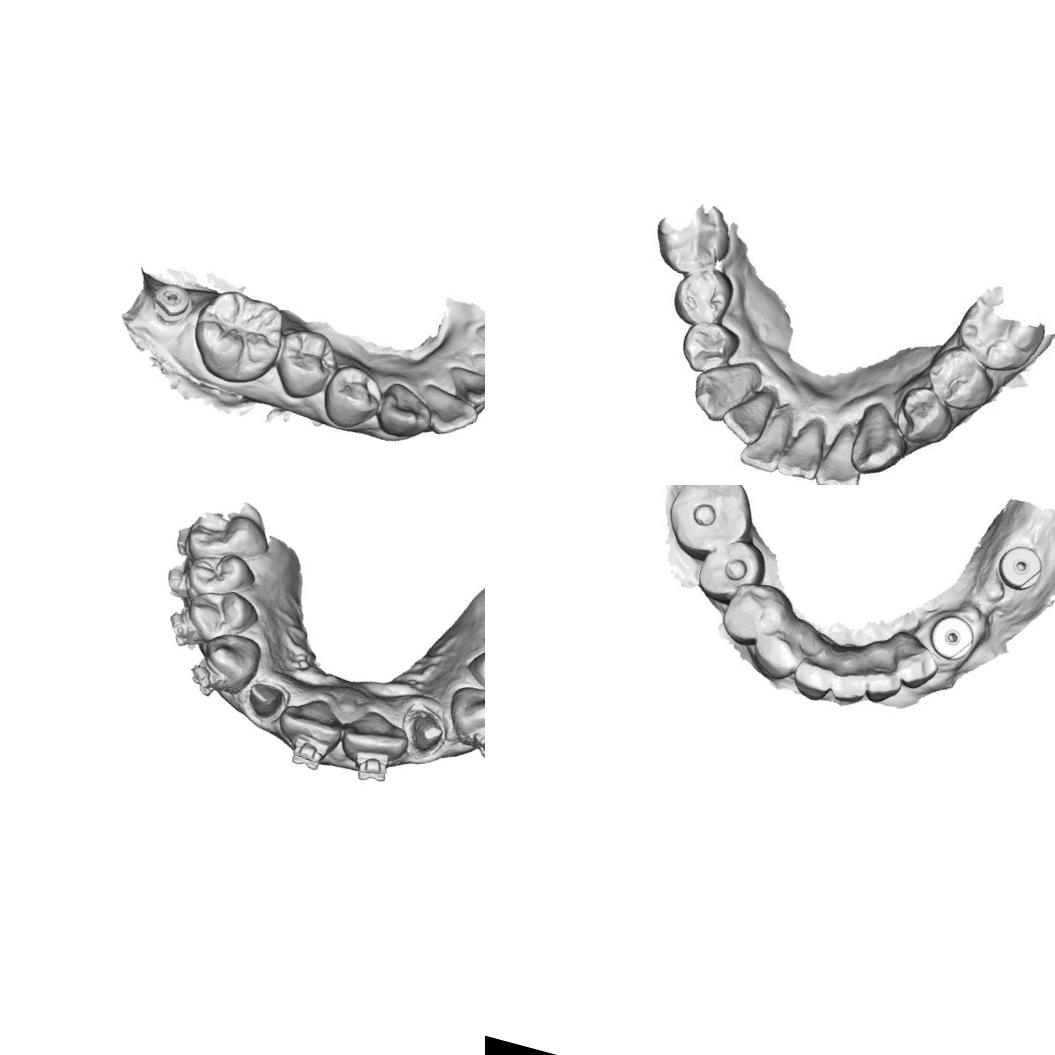canine: (843, 398, 914, 484), (690, 354, 760, 426), (370, 378, 439, 448), (194, 625, 262, 696), (747, 620, 805, 681), (441, 681, 485, 750)
crown: (401, 706, 454, 758), (238, 676, 288, 721)
implant: (994, 538, 1048, 598), (926, 610, 978, 665)
implant_minus: (150, 278, 192, 322)
incisor: (278, 690, 354, 753), (412, 379, 482, 444), (778, 409, 832, 482), (719, 381, 776, 449), (342, 705, 410, 762), (742, 402, 794, 472), (816, 422, 870, 485), (888, 637, 940, 692), (788, 648, 838, 704), (440, 357, 485, 412), (826, 657, 874, 707), (861, 657, 904, 706), (463, 338, 485, 396)
molar: (181, 282, 292, 393), (656, 485, 763, 569), (954, 283, 1054, 372), (650, 196, 734, 276), (179, 502, 272, 573), (689, 529, 771, 609)
premolar: (267, 321, 342, 406), (924, 342, 1000, 420), (714, 574, 789, 652), (179, 579, 264, 646), (314, 359, 388, 435), (886, 380, 960, 454), (182, 542, 262, 606), (672, 264, 742, 331), (682, 318, 738, 374), (460, 640, 485, 710)
